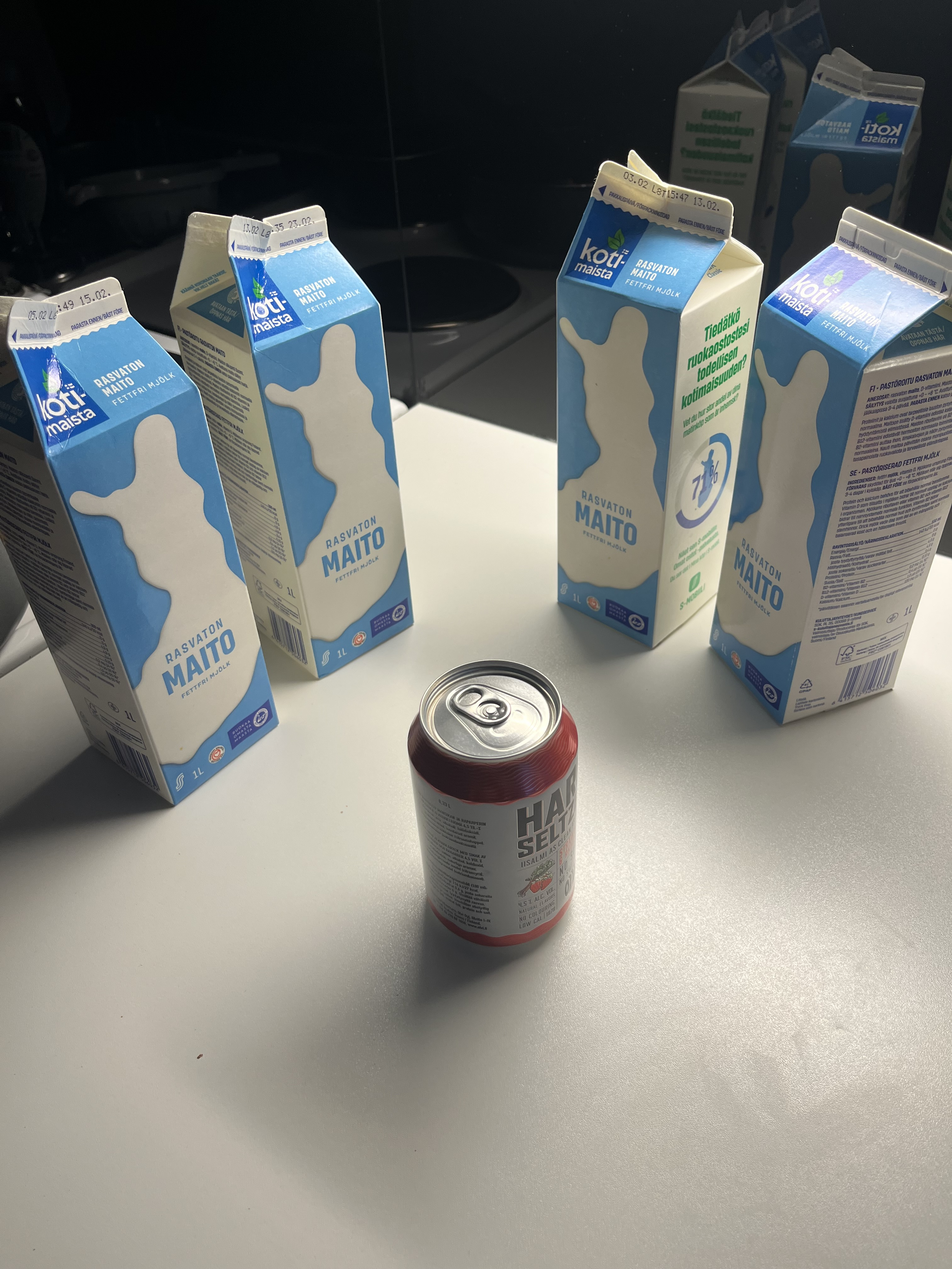Dryckeskartong: (0, 276, 285, 794), (163, 205, 414, 677), (722, 204, 948, 725), (528, 152, 766, 638)
Pantburk: (401, 654, 583, 945)
